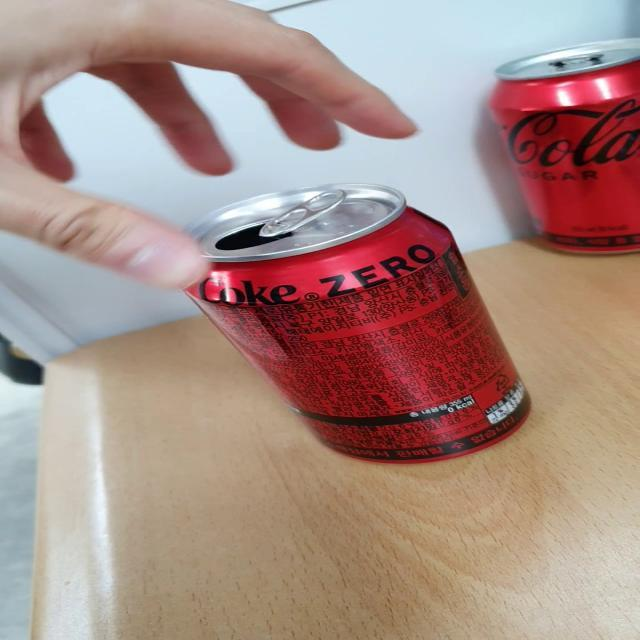coca-cola: (163, 176, 537, 477), (480, 31, 640, 272)
